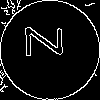Z: (25, 25, 72, 57)
